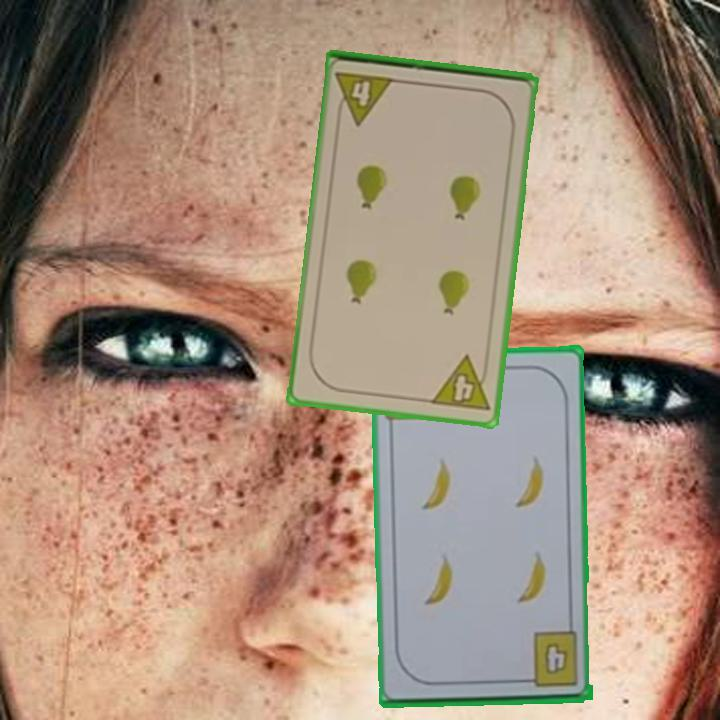4b: (518, 629, 581, 691)
4p: (427, 352, 493, 415), (332, 68, 397, 128)
